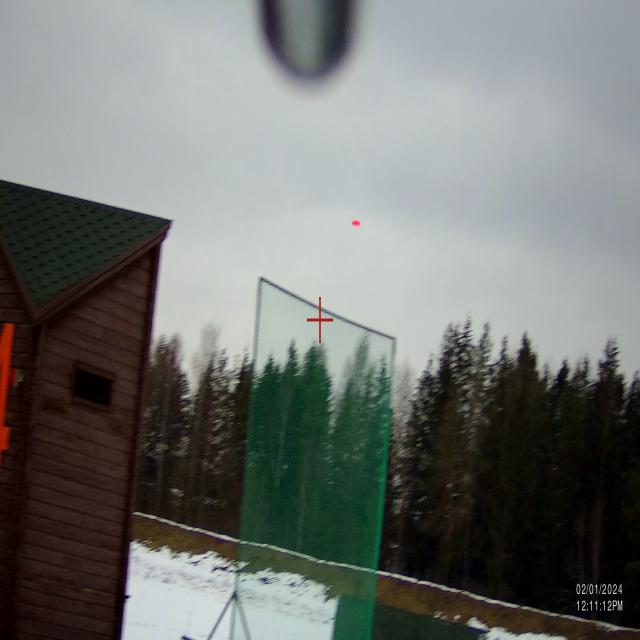entire: (344, 208, 366, 234)
